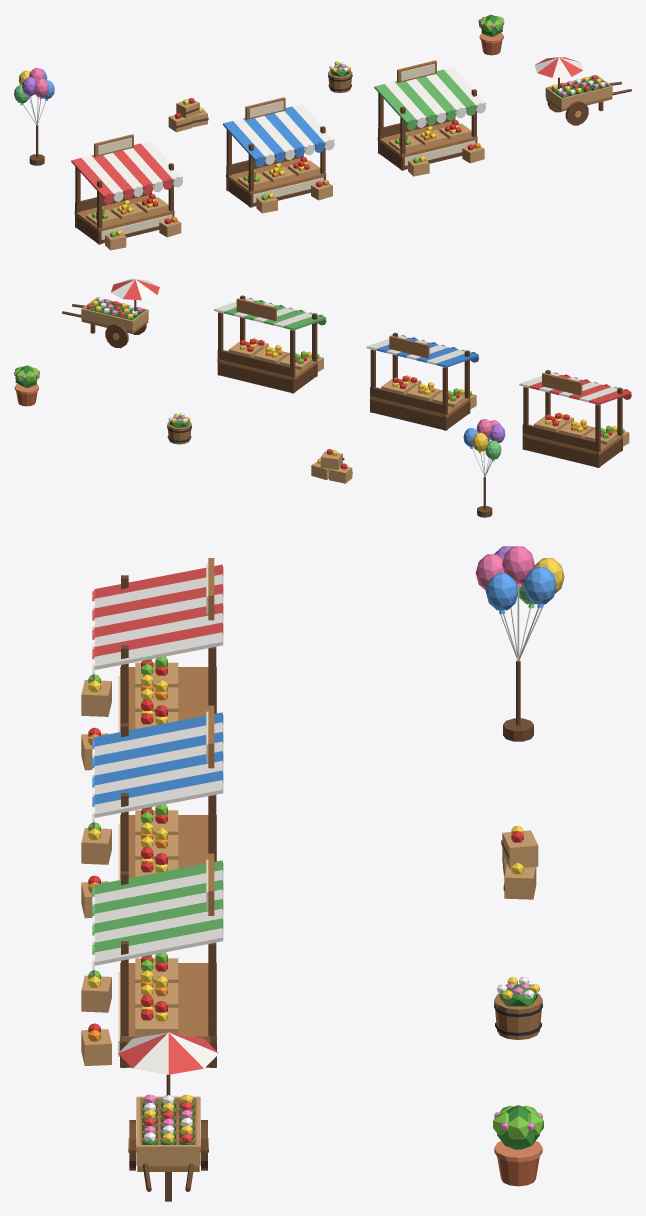
File: PlazaKit.glb
3 renders of one model, top to bottom at view 1: azimuth 30°, elevation 25°; view 2: azimuth 150°, elevation 25°; view 3: azimuth 270°, elevation 25°, orthographic. The views are drawn at different scales.
Visible parts, largest first — view 1: StallBlue__Awning_Blue, StallGreen__Awning_Green, StallRed__Awning_Red, StallRed__Awning_White, StallGreen__Awning_White, StallBlue__Awning_White, StallBlue__Wood_Dark, StallRed__Wood_Dark, StallGreen__Wood_Dark, StallGreen__Wood_Light, StallRed__Wood_Light, StallBlue__Wood_Light (+13 smaller); view 2: StallGreen__Wood_Dark, StallRed__Wood_Dark, StallBlue__Wood_Dark, StallRed__Wood_Mid, StallBlue__Wood_Mid, StallGreen__Wood_Mid, FlowerCart__Wood_Light, FruitCrates__Wood_Light, StallRed__Wood_Light, StallBlue__Wood_Light, StallGreen__Wood_Light, StallBlue__Awning_Blue (+9 smaller); view 3: StallGreen__Awning_White, StallBlue__Awning_White, StallRed__Awning_White, StallRed__Awning_Red, StallBlue__Awning_Blue, StallGreen__Awning_Green, StallGreen__Wood_Light, StallGreen__Wood_Mid, StallRed__Wood_Light, StallBlue__Wood_Light, StallBlue__Wood_Mid, StallRed__Wood_Mid (+14 smaller).
Part boxes in pixels (x1,y1,x2,y2): StallBlue__Awning_Blue: [223, 106, 324, 167]; StallGreen__Awning_Green: [374, 69, 476, 130]; StallRed__Awning_Red: [71, 143, 173, 204]; StallRed__Awning_White: [82, 141, 182, 201]; StallGreen__Awning_White: [385, 67, 486, 127]; StallBlue__Awning_White: [233, 104, 334, 164]; StallBlue__Wood_Dark: [226, 126, 325, 207]; StallRed__Wood_Dark: [75, 163, 174, 244]; StallGreen__Wood_Dark: [378, 89, 477, 170]; StallGreen__Wood_Light: [389, 123, 484, 176]; StallRed__Wood_Light: [86, 197, 181, 250]; StallBlue__Wood_Light: [237, 160, 332, 213]; StallGreen__Wood_Dark: [217, 295, 317, 393]; StallRed__Wood_Dark: [522, 370, 622, 467]; StallBlue__Wood_Dark: [370, 332, 470, 430]; StallRed__Wood_Mid: [522, 372, 623, 455]; StallBlue__Wood_Mid: [370, 335, 470, 417]; StallGreen__Wood_Mid: [217, 298, 317, 380]; FlowerCart__Wood_Light: [81, 297, 148, 339]; FruitCrates__Wood_Light: [311, 451, 352, 483]; StallRed__Wood_Light: [534, 416, 629, 446]; StallBlue__Wood_Light: [381, 379, 476, 409]; StallGreen__Wood_Light: [228, 341, 323, 371]; StallBlue__Awning_Blue: [376, 337, 479, 367]; StallGreen__Awning_White: [92, 870, 223, 975]; StallBlue__Awning_White: [92, 722, 223, 828]; StallRed__Awning_White: [92, 574, 223, 680]; StallRed__Awning_Red: [92, 564, 223, 658]; StallBlue__Awning_Blue: [92, 712, 223, 806]; StallGreen__Awning_Green: [92, 860, 223, 954]; StallGreen__Wood_Light: [81, 958, 178, 1065]; StallGreen__Wood_Mid: [120, 853, 216, 1042]; StallRed__Wood_Light: [81, 662, 178, 770]; StallBlue__Wood_Light: [81, 810, 178, 918]; StallBlue__Wood_Mid: [120, 705, 216, 879]; StallRed__Wood_Mid: [120, 558, 216, 731].
Bounding box in the file's own units: 64.32 × 10.72 × 24.86.
